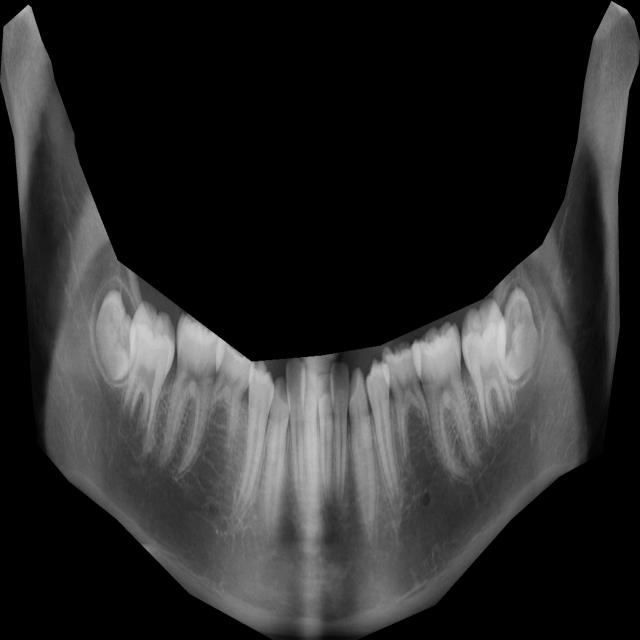mandibula: (0, 1, 640, 640)
